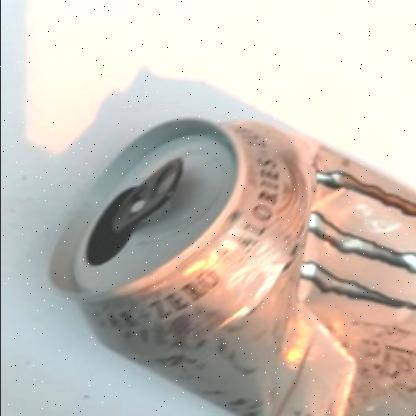Can: (51, 116, 416, 416)
